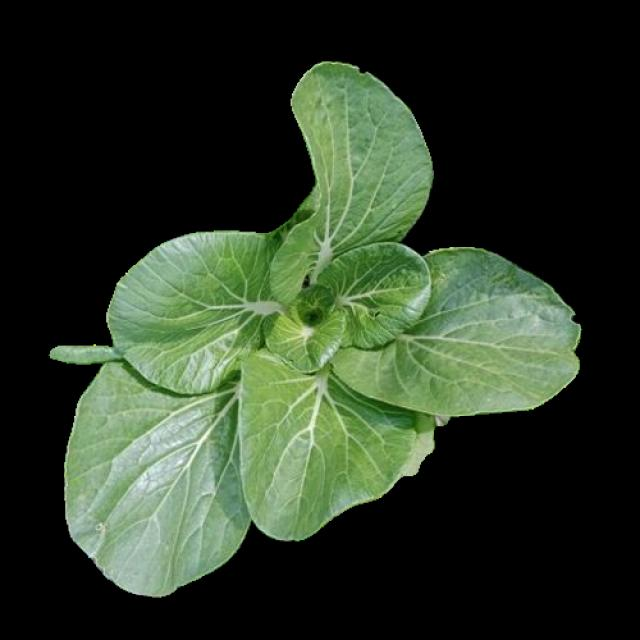mature: (65, 65, 579, 595)
unhealthy: (66, 368, 240, 588), (329, 242, 429, 347)
